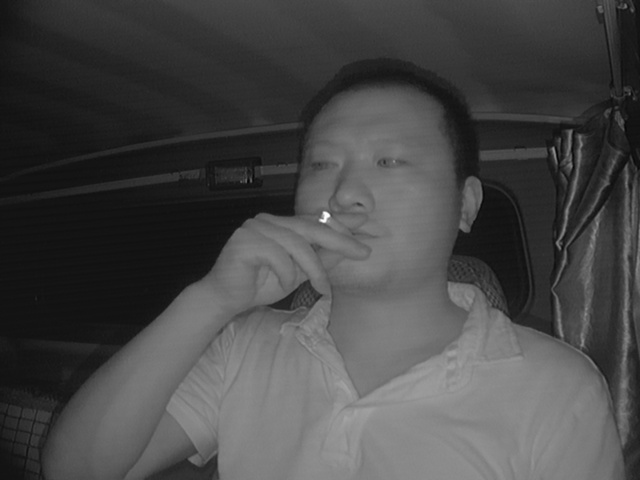hand: (223, 204, 373, 324)
